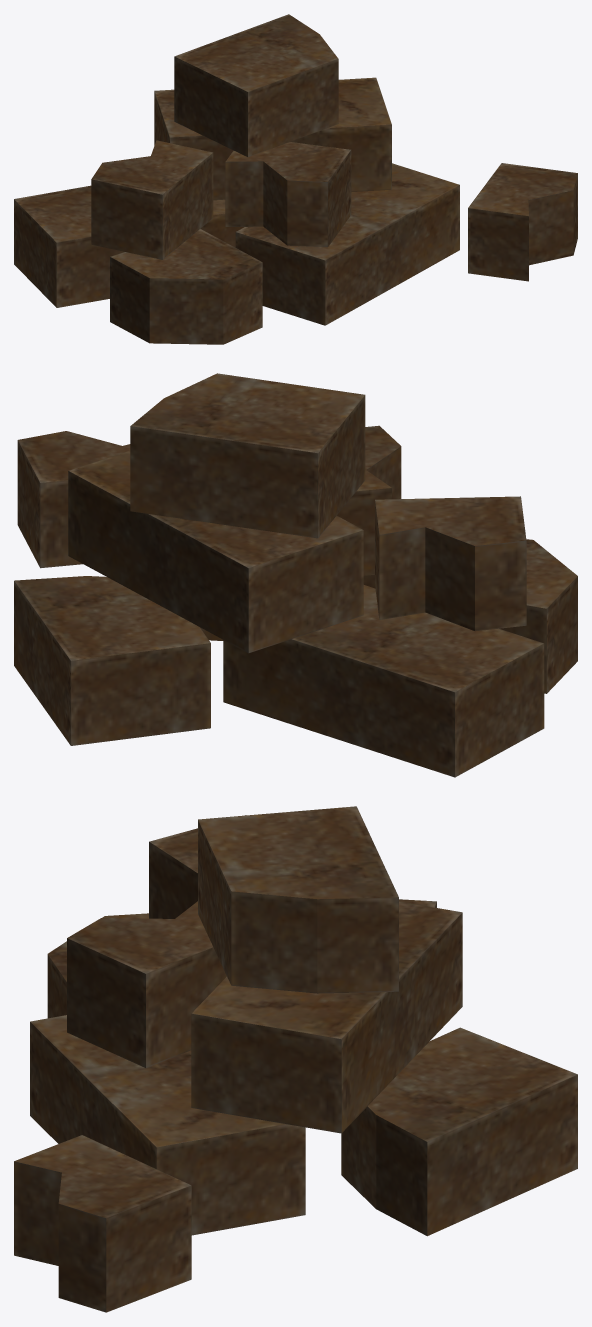
The model's file is bricks_stacked_mx_1_0.obj.
The picture shows the model from 3 angles, top to bottom: view 1: azimuth 30°, elevation 25°; view 2: azimuth 150°, elevation 25°; view 3: azimuth 270°, elevation 25°; orthographic projection. The views are drawn at different scales.
Visible parts, largest first — view 1: bricks_stacked_mx_1_0; view 2: bricks_stacked_mx_1_0; view 3: bricks_stacked_mx_1_0.
Part boxes in pixels (<box>): bricks_stacked_mx_1_0: <box>14,14,577,344</box>; bricks_stacked_mx_1_0: <box>14,373,577,777</box>; bricks_stacked_mx_1_0: <box>14,806,577,1312</box>.
Size of the model in its own units: 0.667 by 0.27 by 0.4878.
